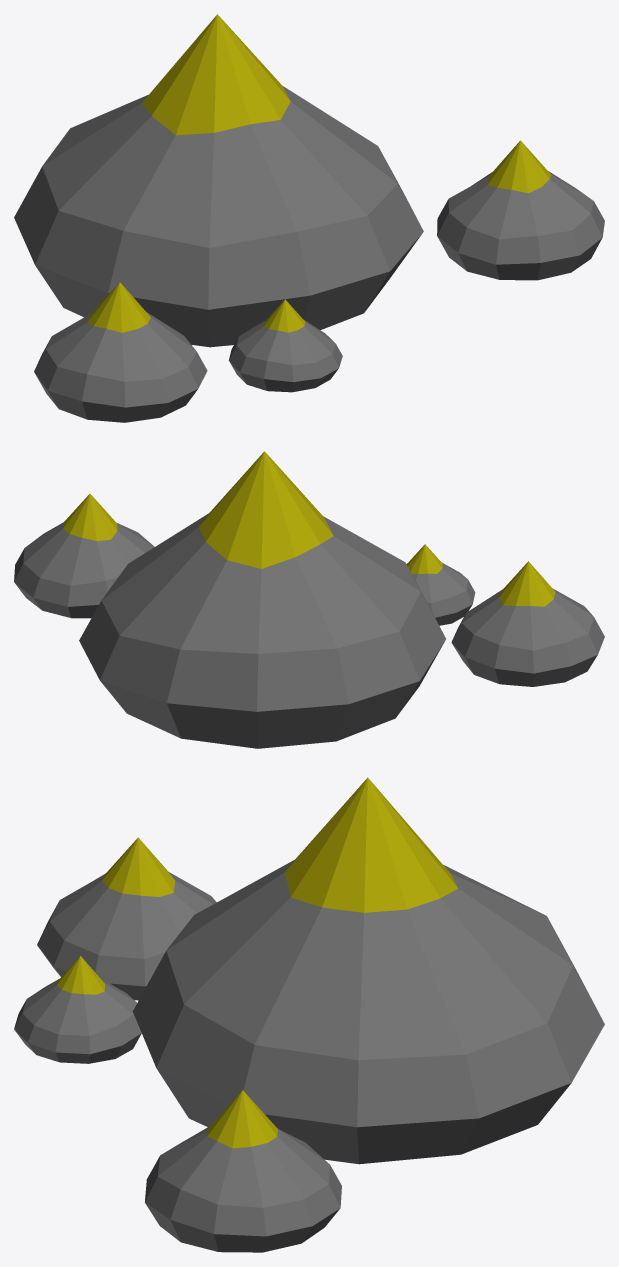
The model's file is ashes.fbx.
3 views of the same model, one above another, from view 1: azimuth 30°, elevation 25°; view 2: azimuth 150°, elevation 25°; view 3: azimuth 270°, elevation 25° (orthographic). The views are drawn at different scales.
Visible parts, largest first — view 1: Cone, Cone.001, Cone.002, Cone.003; view 2: Cone, Cone.001, Cone.002, Cone.003; view 3: Cone, Cone.002, Cone.001, Cone.003.
Boxes of the visible parts, x1,y1,x2,y2 form: Cone: (14,14,423,347); Cone.001: (34,282,207,422); Cone.002: (437,140,604,280); Cone.003: (229,299,342,392); Cone: (79,451,445,748); Cone.001: (451,561,604,686); Cone.002: (14,494,154,618); Cone.003: (406,544,475,625); Cone: (133,777,604,1164); Cone.002: (145,1090,341,1252); Cone.001: (37,837,216,1000); Cone.003: (14,956,141,1063).
Size of the model in its own units: 395 by 165 by 293.
